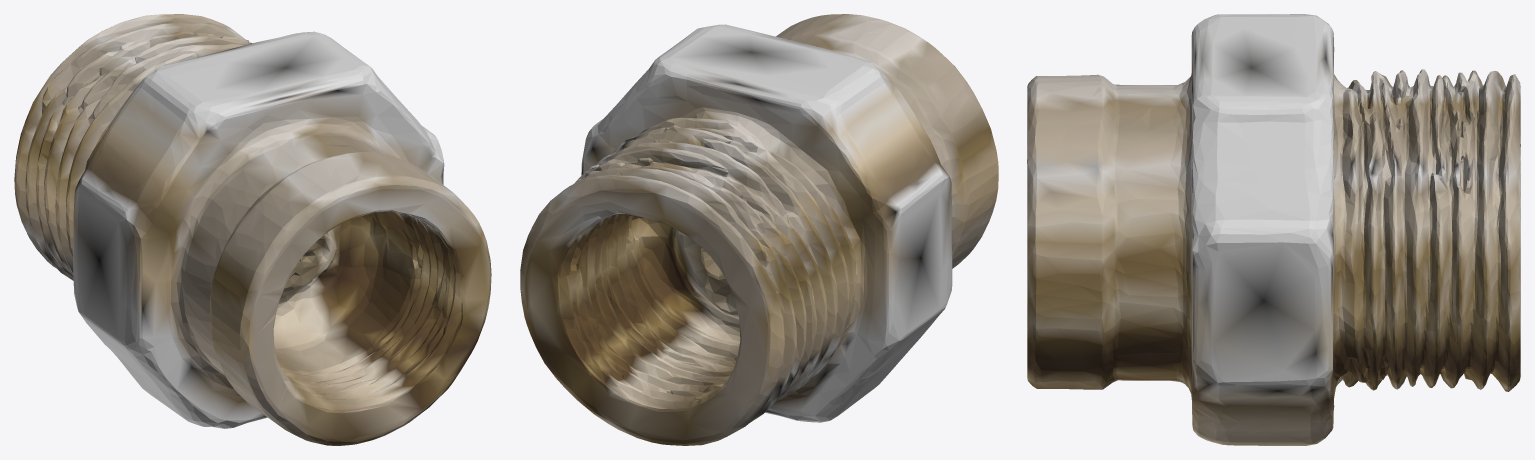
File: seat.glb
3 renders of one model, left to right at view 1: azimuth 30°, elevation 25°; view 2: azimuth 150°, elevation 25°; view 3: azimuth 270°, elevation 25°, orthographic. The views are drawn at different scales.
Parts seen in each view (by area): view 1: tmpi_fearbm.ply; view 2: tmpi_fearbm.ply; view 3: tmpi_fearbm.ply.
Boxes of the visible parts, x1,y1,x2,y2 form: tmpi_fearbm.ply: (14,14,491,445); tmpi_fearbm.ply: (520,14,998,445); tmpi_fearbm.ply: (1027,14,1520,445).
Size of the model in its own units: 0.7919 by 0.7974 by 1.
